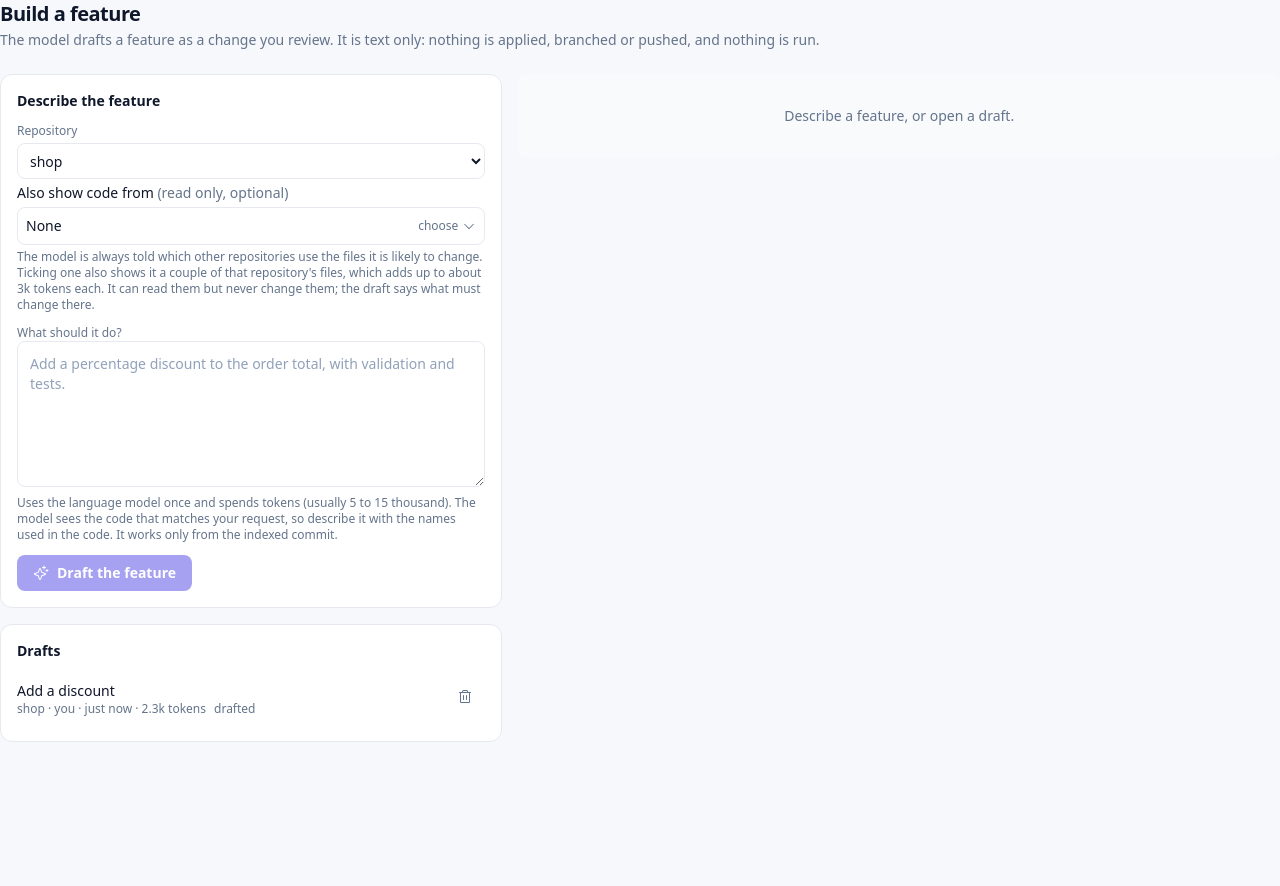
it: Build a feature › shows the impact, the review with its limits, the change and the pull request text
The image size is (1280, 886).
Step 1. Click the button "Add a discount shop · you · just now · 2.3k tokens drafted" → (229, 699), box [17, 673, 441, 725]
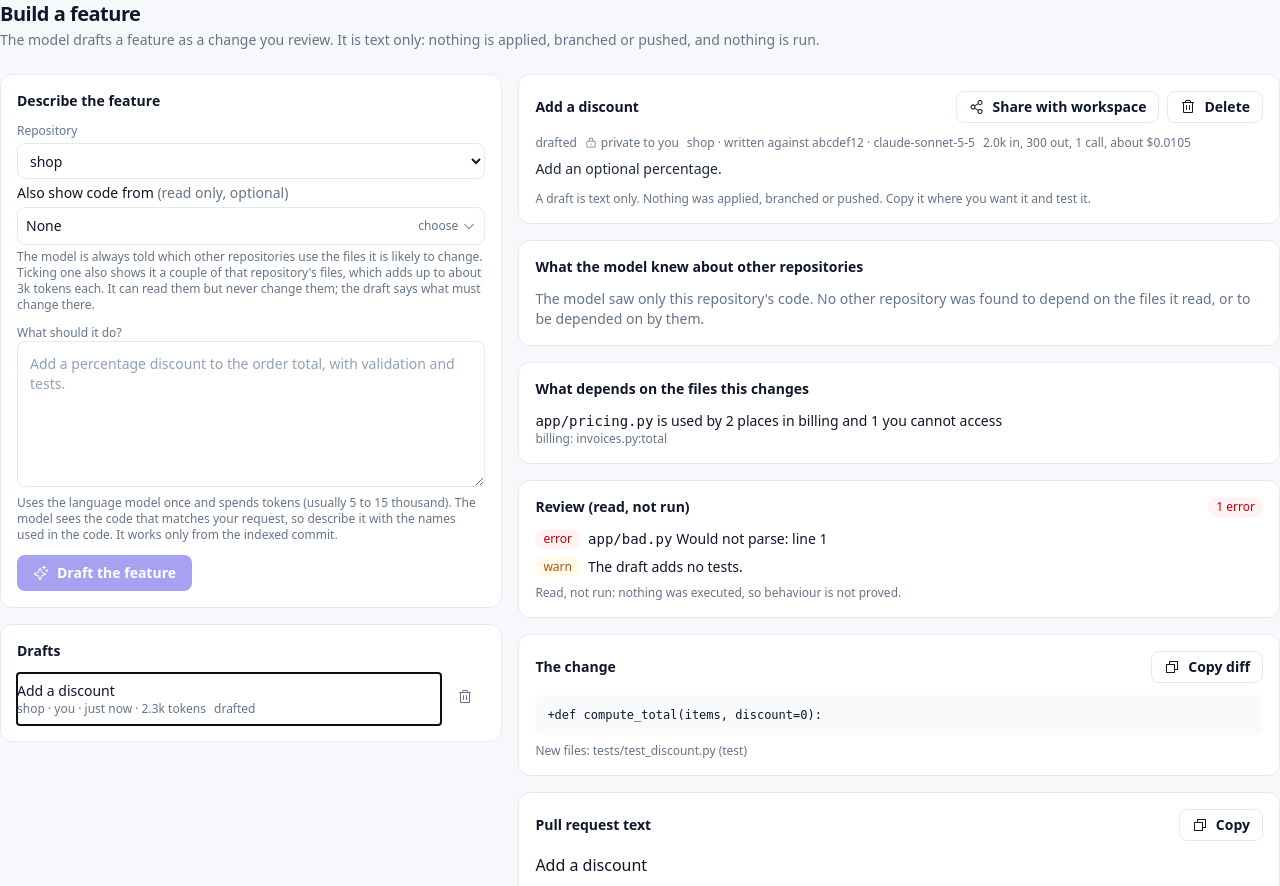
Check: the element named "Impact" shows "app/pricing.py is used by 2 places in billing and 1 you cannot access", box [518, 362, 1279, 464]
Check: the element labelled "Review" shows "1 error", box [1216, 498, 1255, 515]
Check: the element labelled "Review" shows "Would not parse: line 1", box [676, 529, 828, 548]
